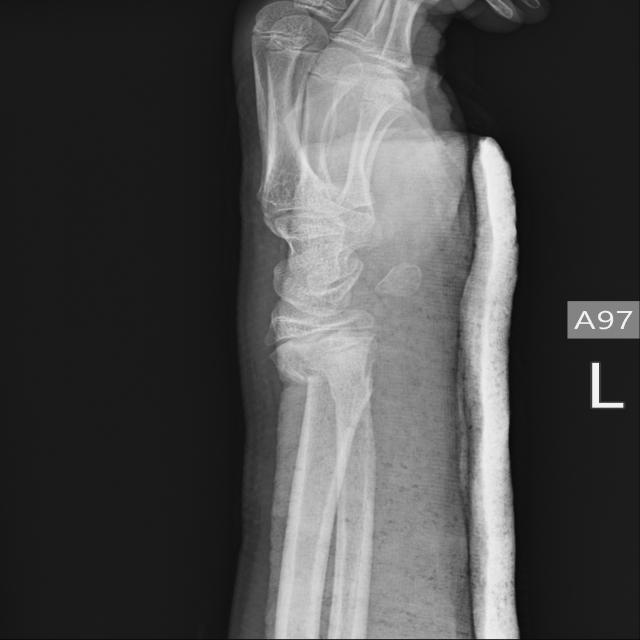fracture: (260, 384, 407, 457)
